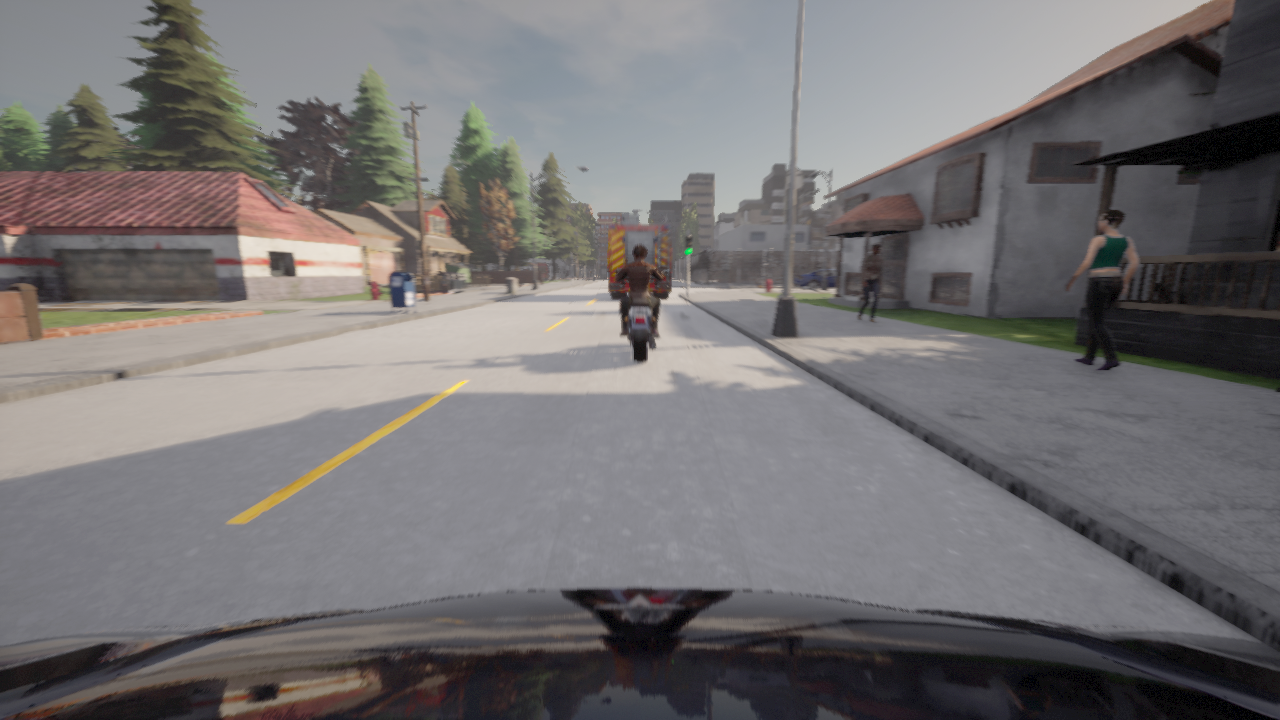cyclist: (0, 588, 1279, 719), (609, 213, 671, 298), (616, 269, 664, 362), (793, 268, 837, 289)
pedestrian: (1066, 209, 1138, 370), (858, 243, 881, 322)
